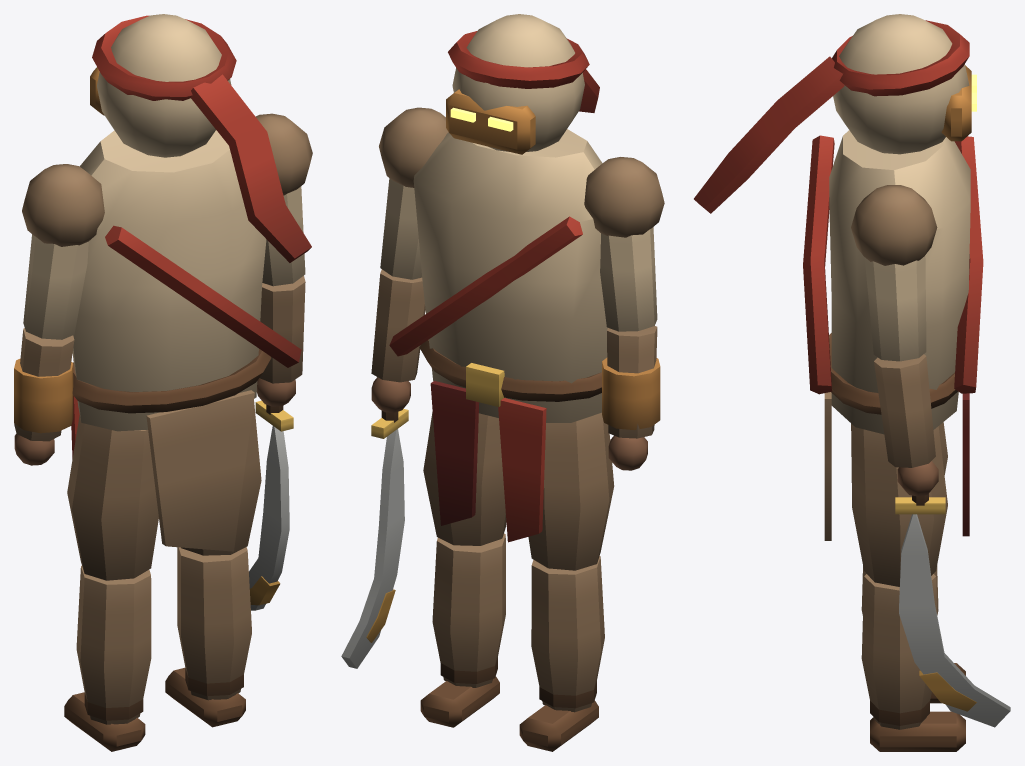
File: mob_ash_raider.fbx
3 views of the same model, side by side, from view 1: azimuth 30°, elevation 25°; view 2: azimuth 150°, elevation 25°; view 3: azimuth 270°, elevation 25° (orthographic).
Parts seen in each view (by area): view 1: Body, Head, KneeL, LegL, KneeR, ArmL, ForearmR, ExtraWrapTail, ForearmL, ArmR, LegR; view 2: Body, Head, KneeL, KneeR, ForearmR, ArmL, LegL, ForearmL, ArmR, LegR, ExtraWrapTail, Head_Glow_Ember; view 3: Body, Head, ForearmR, ArmR, KneeR, LegR, ExtraWrapTail.
Boxes of the visible parts, bbox=[...] form: Body: bbox=[71, 130, 301, 551]; Head: bbox=[90, 14, 236, 157]; KneeL: bbox=[64, 565, 151, 751]; LegL: bbox=[67, 415, 158, 580]; KneeR: bbox=[165, 547, 251, 727]; ArmL: bbox=[22, 164, 104, 339]; ForearmR: bbox=[249, 275, 305, 610]; ExtraWrapTail: bbox=[190, 74, 311, 262]; ForearmL: bbox=[14, 328, 74, 465]; ArmR: bbox=[255, 113, 312, 286]; LegR: bbox=[181, 401, 261, 555]; Body: bbox=[389, 129, 607, 542]; Head: bbox=[446, 14, 589, 154]; KneeL: bbox=[519, 556, 604, 751]; KneeR: bbox=[420, 533, 505, 727]; ForearmR: bbox=[341, 269, 425, 668]; ArmL: bbox=[584, 157, 664, 331]; LegL: bbox=[528, 412, 614, 570]; ForearmL: bbox=[602, 326, 660, 470]; ArmR: bbox=[379, 107, 448, 279]; LegR: bbox=[423, 412, 506, 545]; ExtraWrapTail: bbox=[579, 69, 599, 112]; Head_Glow_Ember: bbox=[450, 107, 513, 131]; Body: bbox=[803, 130, 983, 540]; Head: bbox=[832, 14, 971, 154]; ForearmR: bbox=[874, 354, 1010, 727]; ArmR: bbox=[851, 185, 937, 361]; KneeR: bbox=[861, 574, 965, 751]; LegR: bbox=[851, 423, 947, 586]; ExtraWrapTail: bbox=[694, 56, 844, 213].
Bounding box in the file's own units: 271 × 646 × 264.
Materials: 2 (1 with a texture image).
